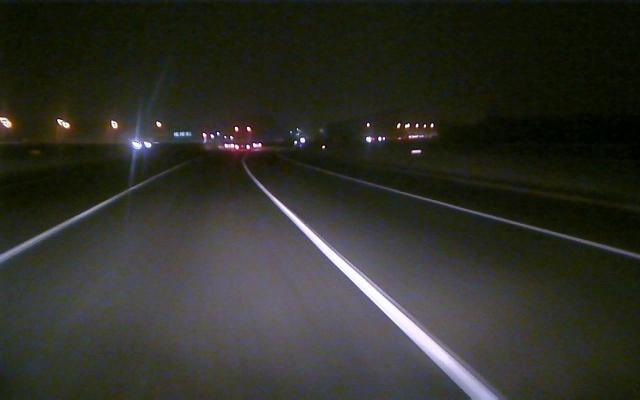lane: (254, 180, 500, 396), (347, 176, 640, 259), (2, 186, 137, 262)
